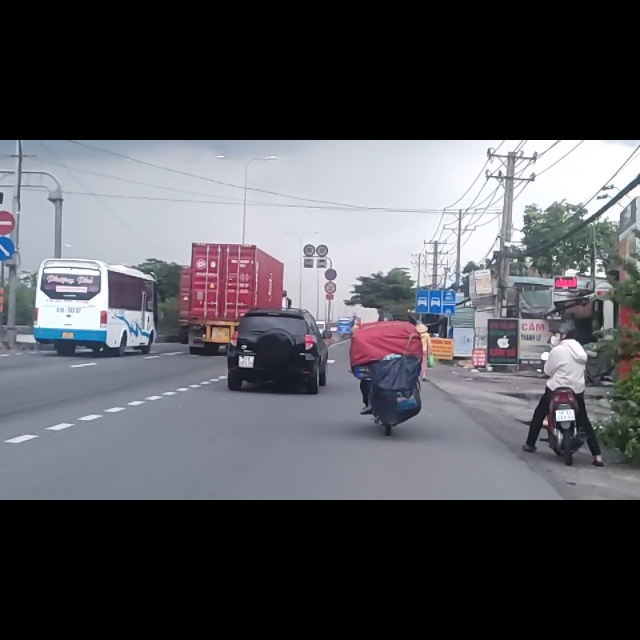bien_chi_dan: (415, 264, 455, 311), (1, 168, 16, 216), (1, 126, 15, 168), (324, 228, 337, 250)
